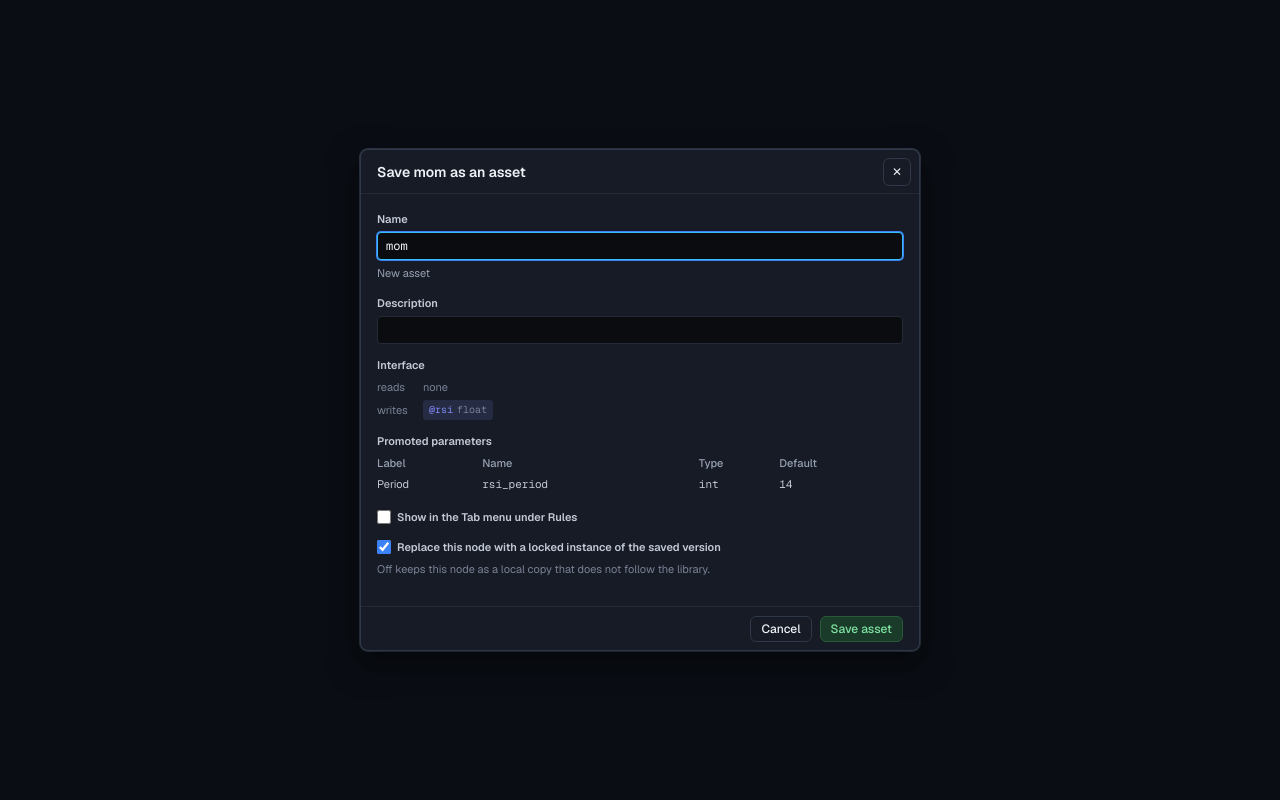
Test: Save as asset (S41) › an invalid name disables the primary
This screenshot has width=1280, height=800.
Replace the text in the field labelled "Name" with "Bad Name": (640, 246) [377,232,903,260]
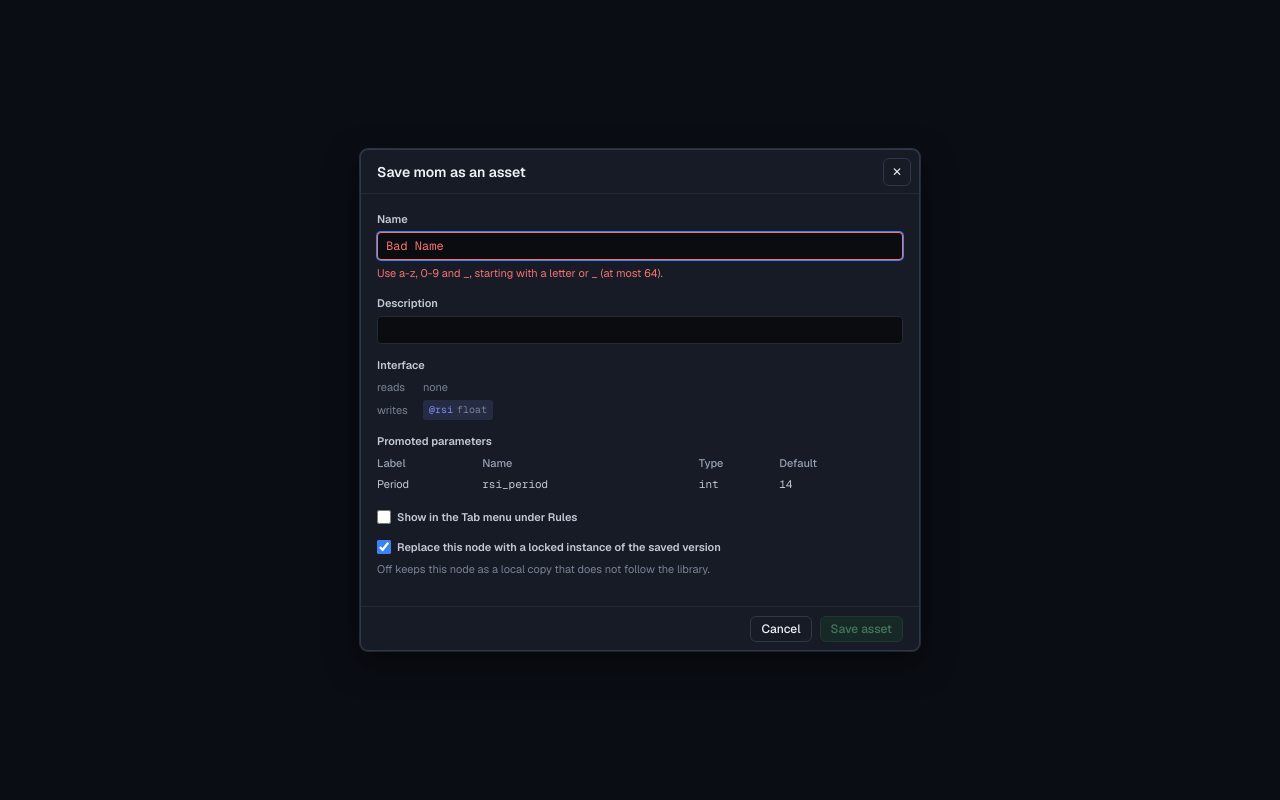
Now the button "Save asset" is disabled, box [820,616,903,642]
